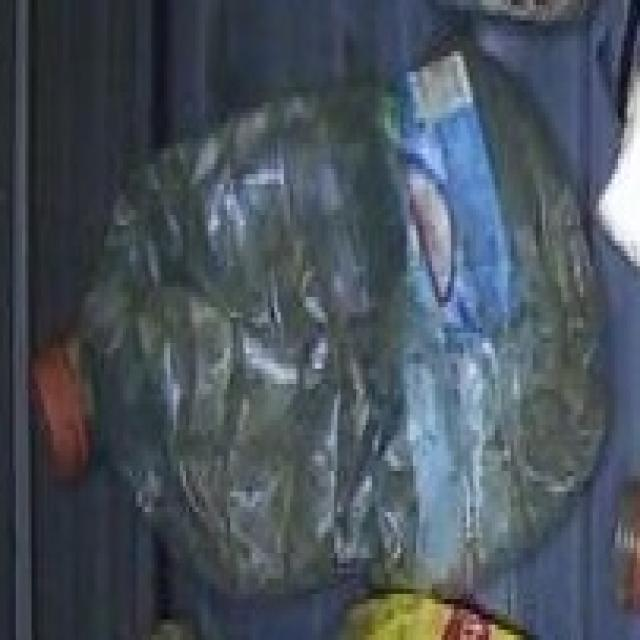litter: (12, 15, 640, 593)
